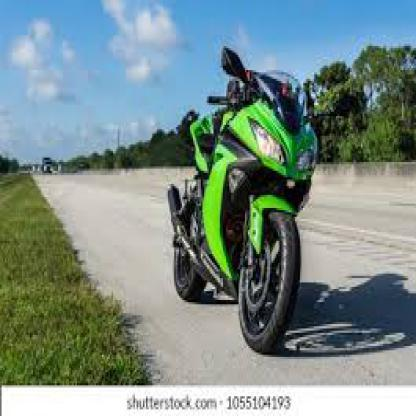Motorcycle: (166, 41, 330, 351)
